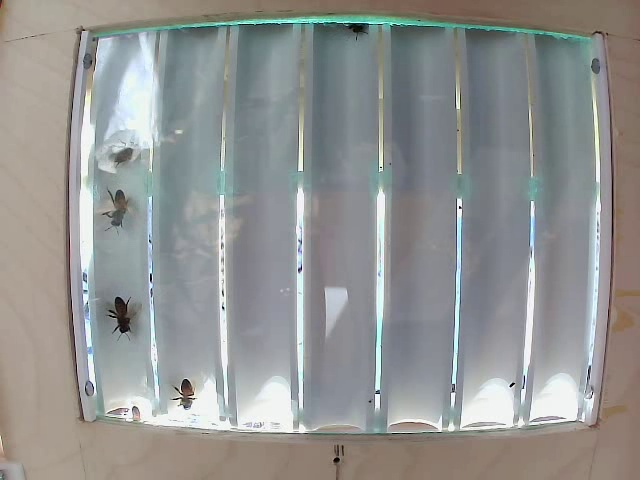bee: (104, 186, 142, 238), (165, 371, 209, 405), (105, 302, 140, 344)
